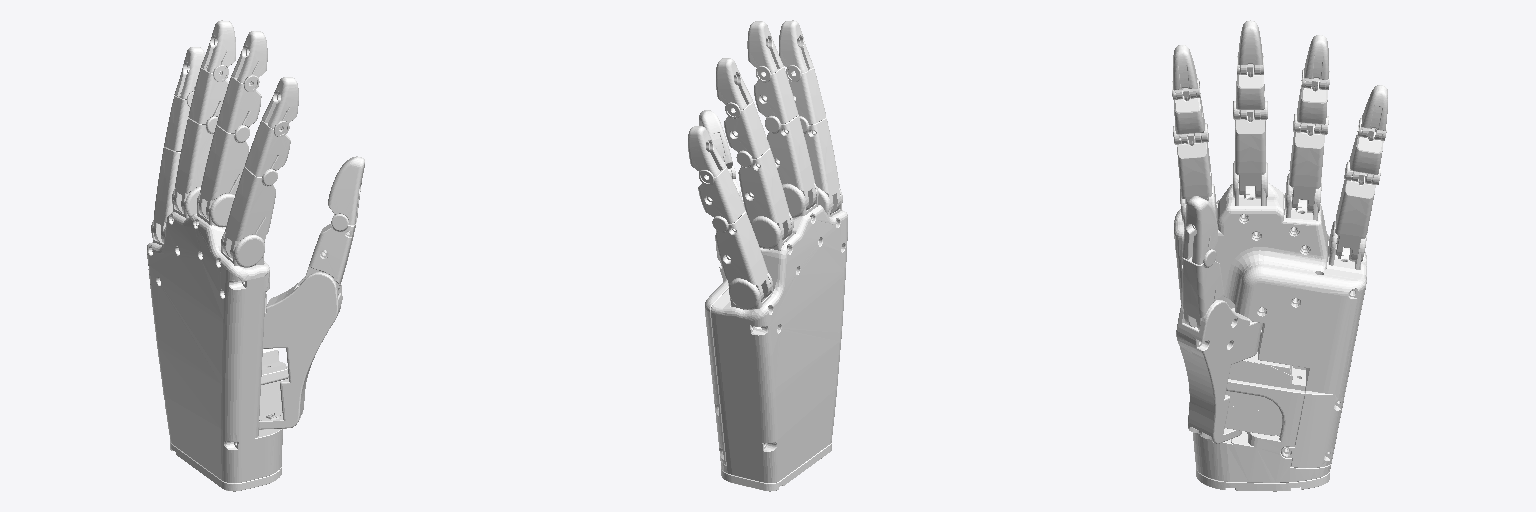
URDF robot description (完整装配.5):
<?xml version="1.0" encoding="utf-8"?>
<!-- This URDF was automatically created by SolidWorks to URDF Exporter! Originally created by Stephen Brawner (brawner@gmail.com) 
     Commit Version: 1.6.0-4-g7f85cfe  Build Version: 1.6.7995.38578
     For more information, please see http://wiki.ros.org/sw_urdf_exporter -->
<robot
  name="完整装配.5">
  <link
    name="base_link">
    <inertial>
      <origin
        xyz="-0.00347929080782284 0.00310775514826022 0.0476624570203305"
        rpy="0 0 0" />
      <mass
        value="0.0871584122310716" />
      <inertia
        ixx="4.30840549647855E-05"
        ixy="-1.46676014937946E-07"
        ixz="1.19771235574348E-06"
        iyy="3.24627509176577E-05"
        iyz="9.51735419601993E-07"
        izz="1.2766052836938E-05" />
    </inertial>
    <visual>
      <origin
        xyz="0 0 0"
        rpy="0 0 0" />
      <geometry>
        <mesh
          filename="package://完整装配.5/meshes/base_link.STL" />
      </geometry>
      <material
        name="">
        <color
          rgba="1 1 1 1" />
      </material>
    </visual>
    <collision>
      <origin
        xyz="0 0 0"
        rpy="0 0 0" />
      <geometry>
        <mesh
          filename="package://完整装配.5/meshes/base_link.STL" />
      </geometry>
    </collision>
  </link>
  <link
    name="thumb_link0">
    <inertial>
      <origin
        xyz="-0.00960211591283956 0.00758158340766049 -0.0138164153671906"
        rpy="0 0 0" />
      <mass
        value="0.00819705416042993" />
      <inertia
        ixx="8.36469740951582E-07"
        ixy="2.02647971480846E-07"
        ixz="4.07336302475195E-08"
        iyy="9.3042549512678E-07"
        iyz="-1.12390642235695E-07"
        izz="5.38666149343251E-07" />
    </inertial>
    <visual>
      <origin
        xyz="0 0 0"
        rpy="0 0 0" />
      <geometry>
        <mesh
          filename="package://完整装配.5/meshes/thumb_link0.STL" />
      </geometry>
      <material
        name="">
        <color
          rgba="1 1 1 1" />
      </material>
    </visual>
    <collision>
      <origin
        xyz="0 0 0"
        rpy="0 0 0" />
      <geometry>
        <mesh
          filename="package://完整装配.5/meshes/thumb_link0.STL" />
      </geometry>
    </collision>
  </link>
  <joint
    name="thumb_joint0"
    type="continuous">
    <origin
      xyz="0.0055645 -0.005142 0.058619"
      rpy="0.17453 0 -3.1416" />
    <parent
      link="base_link" />
    <child
      link="thumb_link0" />
    <axis
      xyz="0 0 1" />
    <limit
      lower="0"
      upper="1.57"
      effort="0"
      velocity="0" />
  </joint>
  <link
    name="thumb_link1">
    <inertial>
      <origin
        xyz="-0.00430570249359351 0.00556192975641163 0.0105114243970107"
        rpy="0 0 0" />
      <mass
        value="0.00203385165421672" />
      <inertia
        ixx="9.84689110822866E-08"
        ixy="-1.52772473105926E-10"
        ixz="3.10475934165436E-08"
        iyy="1.30703250169912E-07"
        iyz="3.21701039309009E-10"
        izz="3.77625871864103E-08" />
    </inertial>
    <visual>
      <origin
        xyz="0 0 0"
        rpy="0 0 0" />
      <geometry>
        <mesh
          filename="package://完整装配.5/meshes/thumb_link1.STL" />
      </geometry>
      <material
        name="">
        <color
          rgba="1 1 1 1" />
      </material>
    </visual>
    <collision>
      <origin
        xyz="0 0 0"
        rpy="0 0 0" />
      <geometry>
        <mesh
          filename="package://完整装配.5/meshes/thumb_link1.STL" />
      </geometry>
    </collision>
  </link>
  <joint
    name="thumb_joint1"
    type="continuous">
    <origin
      xyz="-0.022678 0.010781 0.007"
      rpy="0 0 -0.66459" />
    <parent
      link="thumb_link0" />
    <child
      link="thumb_link1" />
    <axis
      xyz="0 1 0" />
    <limit
      lower="0"
      upper="1.57"
      effort="0"
      velocity="0" />
  </joint>
  <link
    name="thumb_link2">
    <inertial>
      <origin
        xyz="-0.00261405627014604 0.00473192350650027 0.010127310475057"
        rpy="0 0 0" />
      <mass
        value="0.00110912239847427" />
      <inertia
        ixx="4.32349202719249E-08"
        ixy="-9.69738042877162E-11"
        ixz="9.07757942120905E-09"
        iyy="4.85047194168733E-08"
        iyz="3.67154795253948E-10"
        izz="1.51174873330978E-08" />
    </inertial>
    <visual>
      <origin
        xyz="0 0 0"
        rpy="0 0 0" />
      <geometry>
        <mesh
          filename="package://完整装配.5/meshes/thumb_link2.STL" />
      </geometry>
      <material
        name="">
        <color
          rgba="1 1 1 1" />
      </material>
    </visual>
    <collision>
      <origin
        xyz="0 0 0"
        rpy="0 0 0" />
      <geometry>
        <mesh
          filename="package://完整装配.5/meshes/thumb_link2.STL" />
      </geometry>
    </collision>
  </link>
  <joint
    name="thumb_joint2"
    type="continuous">
    <origin
      xyz="-0.0090664 0.0008 0.023298"
      rpy="0 0 0" />
    <parent
      link="thumb_link1" />
    <child
      link="thumb_link2" />
    <axis
      xyz="0 -1 0" />
    <limit
      lower="0"
      upper="1.225"
      effort="0"
      velocity="0" />
  </joint>
  <link
    name="index_link0">
    <inertial>
      <origin
        xyz="-0.00279917129625196 0.00546448085705155 0.01314340123214"
        rpy="0 0 0" />
      <mass
        value="0.00260864293179679" />
      <inertia
        ixx="1.71623367828509E-07"
        ixy="5.6340786420295E-11"
        ixz="2.74922071315346E-08"
        iyy="2.00545456595752E-07"
        iyz="-2.7948260999266E-10"
        izz="3.800307345316E-08" />
    </inertial>
    <visual>
      <origin
        xyz="0 0 0"
        rpy="0 0 0" />
      <geometry>
        <mesh
          filename="package://完整装配.5/meshes/index_link0.STL" />
      </geometry>
      <material
        name="">
        <color
          rgba="1 1 1 1" />
      </material>
    </visual>
    <collision>
      <origin
        xyz="0 0 0"
        rpy="0 0 0" />
      <geometry>
        <mesh
          filename="package://完整装配.5/meshes/index_link0.STL" />
      </geometry>
    </collision>
  </link>
  <joint
    name="index_joint0"
    type="continuous">
    <origin
      xyz="-0.0069855 -0.01524 0.091958"
      rpy="-0.087266 0 -3.1416" />
    <parent
      link="base_link" />
    <child
      link="index_link0" />
    <axis
      xyz="0 -1 0" />
    <limit
      lower="0"
      upper="1.57"
      effort="0"
      velocity="0" />
  </joint>
  <link
    name="index_link1">
    <inertial>
      <origin
        xyz="-0.00195797282321227 0.00548895640148243 0.00818390124472676"
        rpy="0 0 0" />
      <mass
        value="0.00125688613424645" />
      <inertia
        ixx="2.79117562685806E-08"
        ixy="1.71915709849247E-11"
        ixz="5.21712037219331E-09"
        iyy="3.90379769847494E-08"
        iyz="-2.22644709272806E-12"
        izz="1.48737878310264E-08" />
    </inertial>
    <visual>
      <origin
        xyz="0 0 0"
        rpy="0 0 0" />
      <geometry>
        <mesh
          filename="package://完整装配.5/meshes/index_link1.STL" />
      </geometry>
      <material
        name="">
        <color
          rgba="1 1 1 1" />
      </material>
    </visual>
    <collision>
      <origin
        xyz="0 0 0"
        rpy="0 0 0" />
      <geometry>
        <mesh
          filename="package://完整装配.5/meshes/index_link1.STL" />
      </geometry>
    </collision>
  </link>
  <joint
    name="index_joint1"
    type="continuous">
    <origin
      xyz="-0.0064147 0 0.027297"
      rpy="0 0 0" />
    <parent
      link="index_link0" />
    <child
      link="index_link1" />
    <axis
      xyz="0 -1 0" />
    <limit
      lower="0"
      upper="1.57"
      effort="0"
      velocity="0" />
  </joint>
  <link
    name="index_link2">
    <inertial>
      <origin
        xyz="-0.0028877248265317 0.00434792743358713 0.00737459936685731"
        rpy="0 0 0" />
      <mass
        value="0.000659171463588553" />
      <inertia
        ixx="1.64927327495234E-08"
        ixy="1.02688381423712E-10"
        ixz="3.65634797698705E-09"
        iyy="1.80910113151696E-08"
        iyz="-2.70990269251801E-10"
        izz="7.23516959279369E-09" />
    </inertial>
    <visual>
      <origin
        xyz="0 0 0"
        rpy="0 0 0" />
      <geometry>
        <mesh
          filename="package://完整装配.5/meshes/index_link2.STL" />
      </geometry>
      <material
        name="">
        <color
          rgba="1 1 1 1" />
      </material>
    </visual>
    <collision>
      <origin
        xyz="0 0 0"
        rpy="0 0 0" />
      <geometry>
        <mesh
          filename="package://完整装配.5/meshes/index_link2.STL" />
      </geometry>
    </collision>
  </link>
  <joint
    name="index_joint2"
    type="continuous">
    <origin
      xyz="-0.0041177 0.0011 0.017523"
      rpy="0 0 0" />
    <parent
      link="index_link1" />
    <child
      link="index_link2" />
    <axis
      xyz="0 1 0" />
    <limit
      lower="0"
      upper="1.225"
      effort="0"
      velocity="0" />
  </joint>
  <link
    name="middle_link0">
    <inertial>
      <origin
        xyz="-0.0027991672200708 0.00546447934976977 0.0131434085054794"
        rpy="0 0 0" />
      <mass
        value="0.00260864335192661" />
      <inertia
        ixx="1.71622965307995E-07"
        ixy="5.63074080366084E-11"
        ixz="2.74918723359483E-08"
        iyy="2.00545019008613E-07"
        iyz="-2.7950065501234E-10"
        izz="3.80030326939167E-08" />
    </inertial>
    <visual>
      <origin
        xyz="0 0 0"
        rpy="0 0 0" />
      <geometry>
        <mesh
          filename="package://完整装配.5/meshes/middle_link0.STL" />
      </geometry>
      <material
        name="">
        <color
          rgba="1 1 1 1" />
      </material>
    </visual>
    <collision>
      <origin
        xyz="0 0 0"
        rpy="0 0 0" />
      <geometry>
        <mesh
          filename="package://完整装配.5/meshes/middle_link0.STL" />
      </geometry>
    </collision>
  </link>
  <joint
    name="middle_joint0"
    type="continuous">
    <origin
      xyz="-0.0069855 0.0012972 0.0997"
      rpy="0 0 -3.1416" />
    <parent
      link="base_link" />
    <child
      link="middle_link0" />
    <axis
      xyz="0 -1 0" />
    <limit
      lower="0"
      upper="1.57"
      effort="0"
      velocity="0" />
  </joint>
  <link
    name="middle_link1">
    <inertial>
      <origin
        xyz="-0.00195797291507571 0.00548895620315368 0.00818390141885184"
        rpy="0 0 0" />
      <mass
        value="0.00125688607180107" />
      <inertia
        ixx="2.79117571380921E-08"
        ixy="1.71899074324545E-11"
        ixz="5.21711844957382E-09"
        iyy="3.90379766592045E-08"
        iyz="-2.2261616647141E-12"
        izz="1.4873786324222E-08" />
    </inertial>
    <visual>
      <origin
        xyz="0 0 0"
        rpy="0 0 0" />
      <geometry>
        <mesh
          filename="package://完整装配.5/meshes/middle_link1.STL" />
      </geometry>
      <material
        name="">
        <color
          rgba="1 1 1 1" />
      </material>
    </visual>
    <collision>
      <origin
        xyz="0 0 0"
        rpy="0 0 0" />
      <geometry>
        <mesh
          filename="package://完整装配.5/meshes/middle_link1.STL" />
      </geometry>
    </collision>
  </link>
  <joint
    name="middle_joint1"
    type="continuous">
    <origin
      xyz="-0.0064147 0 0.027297"
      rpy="0 0 0" />
    <parent
      link="middle_link0" />
    <child
      link="middle_link1" />
    <axis
      xyz="0 -1 0" />
    <limit
      lower="0"
      upper="1.57"
      effort="0"
      velocity="0" />
  </joint>
  <link
    name="middle_link2">
    <inertial>
      <origin
        xyz="-0.00288762968072682 0.00434787218126345 0.00737447906050879"
        rpy="0 0 0" />
      <mass
        value="0.000659158195938934" />
      <inertia
        ixx="1.6492276398384E-08"
        ixy="1.02616478692573E-10"
        ixz="3.65598887890805E-09"
        iyy="1.80904541408537E-08"
        iyz="-2.70750988212806E-10"
        izz="7.23501294287843E-09" />
    </inertial>
    <visual>
      <origin
        xyz="0 0 0"
        rpy="0 0 0" />
      <geometry>
        <mesh
          filename="package://完整装配.5/meshes/middle_link2.STL" />
      </geometry>
      <material
        name="">
        <color
          rgba="1 1 1 1" />
      </material>
    </visual>
    <collision>
      <origin
        xyz="0 0 0"
        rpy="0 0 0" />
      <geometry>
        <mesh
          filename="package://完整装配.5/meshes/middle_link2.STL" />
      </geometry>
    </collision>
  </link>
  <joint
    name="middle_joint2"
    type="continuous">
    <origin
      xyz="-0.0041177 0.0011 0.017523"
      rpy="0 0 0" />
    <parent
      link="middle_link1" />
    <child
      link="middle_link2" />
    <axis
      xyz="0 -1 0" />
    <limit
      lower="0"
      upper="1.225"
      effort="0"
      velocity="0" />
  </joint>
  <link
    name="ring_link0">
    <inertial>
      <origin
        xyz="-0.00279917316479356 0.0054644775170749 0.0131434129788751"
        rpy="0 0 0" />
      <mass
        value="0.00260864265847544" />
      <inertia
        ixx="1.71623443548449E-07"
        ixy="5.62676825683882E-11"
        ixz="2.749182804272E-08"
        iyy="2.00545358781641E-07"
        iyz="-2.79488948935906E-10"
        izz="3.80028952816759E-08" />
    </inertial>
    <visual>
      <origin
        xyz="0 0 0"
        rpy="0 0 0" />
      <geometry>
        <mesh
          filename="package://完整装配.5/meshes/ring_link0.STL" />
      </geometry>
      <material
        name="">
        <color
          rgba="1 1 1 1" />
      </material>
    </visual>
    <collision>
      <origin
        xyz="0 0 0"
        rpy="0 0 0" />
      <geometry>
        <mesh
          filename="package://完整装配.5/meshes/ring_link0.STL" />
      </geometry>
    </collision>
  </link>
  <joint
    name="ring_joint0"
    type="continuous">
    <origin
      xyz="-0.0069855 0.018097 0.094486"
      rpy="0.087266 0 -3.1416" />
    <parent
      link="base_link" />
    <child
      link="ring_link0" />
    <axis
      xyz="0 -1 0" />
    <limit
      lower="0"
      upper="1.57"
      effort="0"
      velocity="0" />
  </joint>
  <link
    name="ring_link1">
    <inertial>
      <origin
        xyz="-0.00195797270744608 0.00548895634918471 0.00818390139350311"
        rpy="0 0 0" />
      <mass
        value="0.00125688610474581" />
      <inertia
        ixx="2.79117519466116E-08"
        ixy="1.7189378315928E-11"
        ixz="5.21711742524773E-09"
        iyy="3.9037973071129E-08"
        iyz="-2.22597855194929E-12"
        izz="1.48737877387727E-08" />
    </inertial>
    <visual>
      <origin
        xyz="0 0 0"
        rpy="0 0 0" />
      <geometry>
        <mesh
          filename="package://完整装配.5/meshes/ring_link1.STL" />
      </geometry>
      <material
        name="">
        <color
          rgba="1 1 1 1" />
      </material>
    </visual>
    <collision>
      <origin
        xyz="0 0 0"
        rpy="0 0 0" />
      <geometry>
        <mesh
          filename="package://完整装配.5/meshes/ring_link1.STL" />
      </geometry>
    </collision>
  </link>
  <joint
    name="ring_joint1"
    type="continuous">
    <origin
      xyz="-0.0064147 0 0.027297"
      rpy="0 0 0" />
    <parent
      link="ring_link0" />
    <child
      link="ring_link1" />
    <axis
      xyz="0 -1 0" />
    <limit
      lower="0"
      upper="1.57"
      effort="0"
      velocity="0" />
  </joint>
  <link
    name="ring_link2">
    <inertial>
      <origin
        xyz="-0.00288762897194546 0.00434788446477699 0.00737448978176454"
        rpy="0 0 0" />
      <mass
        value="0.000659158909753503" />
      <inertia
        ixx="1.64922891504409E-08"
        ixy="1.0261897596796E-10"
        ixz="3.65604019751093E-09"
        iyy="1.80905113571256E-08"
        iyz="-2.70834911169885E-10"
        izz="7.23504627124144E-09" />
    </inertial>
    <visual>
      <origin
        xyz="0 0 0"
        rpy="0 0 0" />
      <geometry>
        <mesh
          filename="package://完整装配.5/meshes/ring_link2.STL" />
      </geometry>
      <material
        name="">
        <color
          rgba="1 1 1 1" />
      </material>
    </visual>
    <collision>
      <origin
        xyz="0 0 0"
        rpy="0 0 0" />
      <geometry>
        <mesh
          filename="package://完整装配.5/meshes/ring_link2.STL" />
      </geometry>
    </collision>
  </link>
  <joint
    name="ring_joint2"
    type="continuous">
    <origin
      xyz="-0.0041177 0.0011 0.017523"
      rpy="0 0 0" />
    <parent
      link="ring_link1" />
    <child
      link="ring_link2" />
    <axis
      xyz="0 -1 0" />
    <limit
      lower="0"
      upper="1.225"
      effort="0"
      velocity="0" />
  </joint>
  <link
    name="little_link0">
    <inertial>
      <origin
        xyz="-0.00279917458225425 0.00546447628147656 0.013143416603884"
        rpy="0 0 0" />
      <mass
        value="0.00260864243127496" />
      <inertia
        ixx="1.71623554463018E-07"
        ixy="5.62405986264101E-11"
        ixz="2.74917228530667E-08"
        iyy="2.00545399742527E-07"
        iyz="-2.79485184289094E-10"
        izz="3.80028249834631E-08" />
    </inertial>
    <visual>
      <origin
        xyz="0 0 0"
        rpy="0 0 0" />
      <geometry>
        <mesh
          filename="package://完整装配.5/meshes/little_link0.STL" />
      </geometry>
      <material
        name="">
        <color
          rgba="1 1 1 1" />
      </material>
    </visual>
    <collision>
      <origin
        xyz="0 0 0"
        rpy="0 0 0" />
      <geometry>
        <mesh
          filename="package://完整装配.5/meshes/little_link0.STL" />
      </geometry>
    </collision>
  </link>
  <joint
    name="little_joint0"
    type="continuous">
    <origin
      xyz="-0.0069855 0.032123 0.077041"
      rpy="0.17453 0 -3.1416" />
    <parent
      link="base_link" />
    <child
      link="little_link0" />
    <axis
      xyz="0 -1 0" />
    <limit
      lower="0"
      upper="1.57"
      effort="0"
      velocity="0" />
  </joint>
  <link
    name="little_link1">
    <inertial>
      <origin
        xyz="-0.00195797144039904 0.00548895624772269 0.00818390160788782"
        rpy="0 0 0" />
      <mass
        value="0.00125688610787941" />
      <inertia
        ixx="2.79117282039952E-08"
        ixy="1.71873845406813E-11"
        ixz="5.21711109174146E-09"
        iyy="3.9037956586359E-08"
        iyz="-2.22569314182918E-12"
        izz="1.48737930737463E-08" />
    </inertial>
    <visual>
      <origin
        xyz="0 0 0"
        rpy="0 0 0" />
      <geometry>
        <mesh
          filename="package://完整装配.5/meshes/little_link1.STL" />
      </geometry>
      <material
        name="">
        <color
          rgba="1 1 1 1" />
      </material>
    </visual>
    <collision>
      <origin
        xyz="0 0 0"
        rpy="0 0 0" />
      <geometry>
        <mesh
          filename="package://完整装配.5/meshes/little_link1.STL" />
      </geometry>
    </collision>
  </link>
  <joint
    name="little_joint1"
    type="continuous">
    <origin
      xyz="-0.0064147 0 0.027297"
      rpy="0 0 0" />
    <parent
      link="little_link0" />
    <child
      link="little_link1" />
    <axis
      xyz="0 -1 0" />
    <limit
      lower="0"
      upper="1.57"
      effort="0"
      velocity="0" />
  </joint>
  <link
    name="little_link2">
    <inertial>
      <origin
        xyz="-0.00288762882308516 0.00434788518770746 0.00737450159830684"
        rpy="0 0 0" />
      <mass
        value="0.000659159699903221" />
      <inertia
        ixx="1.64923495297491E-08"
        ixy="1.02618691737652E-10"
        ixz="3.65604842894566E-09"
        iyy="1.80905700694119E-08"
        iyz="-2.70841178765038E-10"
        izz="7.23504443706668E-09" />
    </inertial>
    <visual>
      <origin
        xyz="0 0 0"
        rpy="0 0 0" />
      <geometry>
        <mesh
          filename="package://完整装配.5/meshes/little_link2.STL" />
      </geometry>
      <material
        name="">
        <color
          rgba="1 1 1 1" />
      </material>
    </visual>
    <collision>
      <origin
        xyz="0 0 0"
        rpy="0 0 0" />
      <geometry>
        <mesh
          filename="package://完整装配.5/meshes/little_link2.STL" />
      </geometry>
    </collision>
  </link>
  <joint
    name="little_joint2"
    type="continuous">
    <origin
      xyz="-0.0041177 0.0011 0.017523"
      rpy="0 0 0" />
    <parent
      link="little_link1" />
    <child
      link="little_link2" />
    <axis
      xyz="0 -1 0" />
    <limit
      lower="0"
      upper="1.225"
      effort="0"
      velocity="0" />
  </joint>
</robot>

--- What the picture shows (computed from the rendered views, not written in the file) ---
Views: 3 orthographic renders of the robot side by side, from view 1: azimuth 30°, elevation 25°; view 2: azimuth 150°, elevation 25°; view 3: azimuth 270°, elevation 25°.
Model 完整装配.5 with 16 links and 15 joints (15 continuous), rooted at base_link, posed every joint at zero.
Links seen in each view (by area): view 1: base_link, thumb_link0, index_link0, middle_link0, ring_link0, thumb_link1, middle_link1, index_link1, thumb_link2, ring_link1, little_link0, index_link2 (+4 smaller); view 2: base_link, ring_link0, little_link0, middle_link0, index_link0, middle_link1, ring_link1, little_link1, index_link1, ring_link2, middle_link2, little_link2 (+2 smaller); view 3: base_link, thumb_link0, little_link0, ring_link0, middle_link0, thumb_link1, index_link0, thumb_link2, little_link1, index_link1, ring_link1, middle_link1 (+4 smaller).
Boxes of the visible links, left/top/right/bottom form: base_link: left=147, top=187, right=288, bottom=491; thumb_link0: left=259, top=272, right=342, bottom=429; index_link0: left=223, top=166, right=277, bottom=258; middle_link0: left=199, top=125, right=249, bottom=218; ring_link0: left=174, top=116, right=217, bottom=213; thumb_link1: left=304, top=214, right=356, bottom=290; middle_link1: left=217, top=75, right=261, bottom=133; index_link1: left=245, top=120, right=290, bottom=176; thumb_link2: left=328, top=156, right=364, bottom=224; ring_link1: left=188, top=65, right=228, bottom=124; little_link0: left=153, top=147, right=180, bottom=243; index_link2: left=262, top=77, right=298, bottom=129; base_link: left=705, top=183, right=847, bottom=491; ring_link0: left=736, top=148, right=791, bottom=239; little_link0: left=712, top=211, right=770, bottom=301; middle_link0: left=765, top=115, right=816, bottom=209; index_link0: left=799, top=116, right=840, bottom=214; middle_link1: left=754, top=66, right=798, bottom=123; ring_link1: left=724, top=102, right=769, bottom=158; little_link1: left=698, top=162, right=745, bottom=223; index_link1: left=786, top=65, right=825, bottom=124; ring_link2: left=716, top=58, right=752, bottom=111; middle_link2: left=747, top=21, right=783, bottom=75; little_link2: left=688, top=126, right=725, bottom=178; base_link: left=1174, top=161, right=1367, bottom=491; thumb_link0: left=1176, top=300, right=1262, bottom=443; little_link0: left=1335, top=162, right=1380, bottom=261; ring_link0: left=1289, top=114, right=1328, bottom=212; middle_link0: left=1233, top=101, right=1267, bottom=198; thumb_link1: left=1182, top=249, right=1223, bottom=330; index_link0: left=1173, top=123, right=1212, bottom=203; thumb_link2: left=1182, top=196, right=1217, bottom=264; little_link1: left=1349, top=118, right=1386, bottom=183; index_link1: left=1172, top=79, right=1204, bottom=143; ring_link1: left=1297, top=69, right=1329, bottom=133; middle_link1: left=1236, top=56, right=1264, bottom=119.
Bounding box of the posed robot: 0.0561 × 0.0689 × 0.1617 m (x, y, z).
Meshes: 16 distinct files referenced, 16 mesh visuals loaded (16 binary STL).
